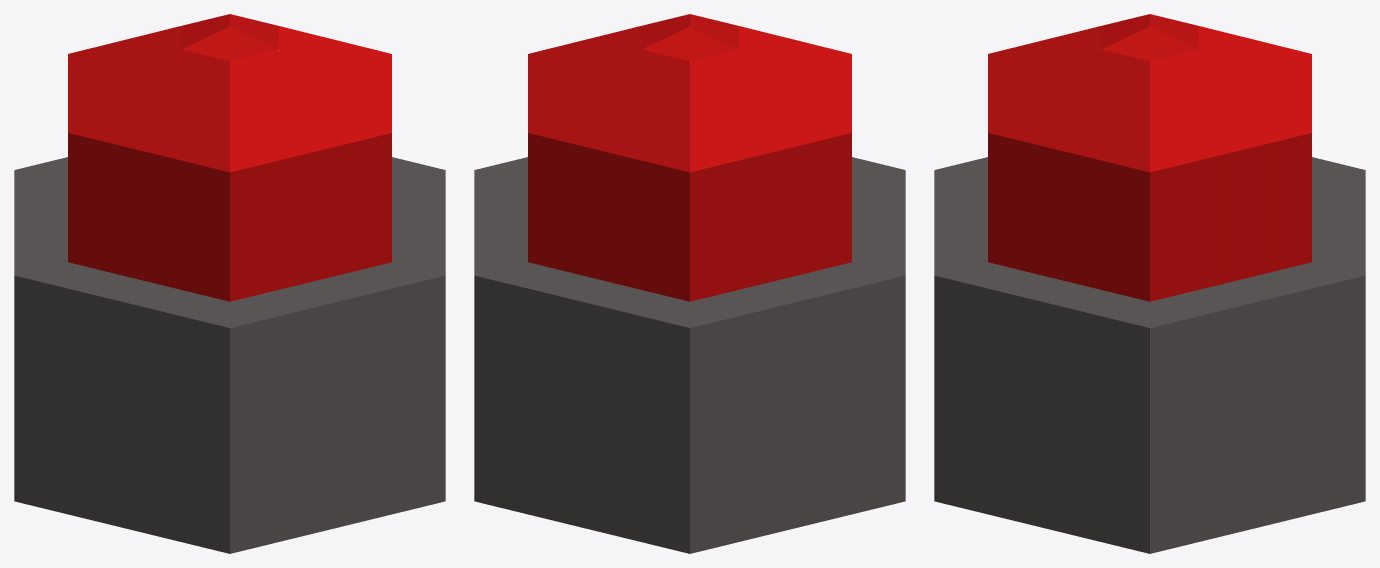
Rendered from Button.fbx.
3 views of the same model, side by side, from view 1: azimuth 30°, elevation 25°; view 2: azimuth 150°, elevation 25°; view 3: azimuth 270°, elevation 25° (orthographic).
Visible parts, largest first — view 1: Button_Base, Button; view 2: Button_Base, Button; view 3: Button_Base, Button.
Boxes of the visible parts, box(x1,y1,x2,y2) form: Button_Base: box(14, 157, 445, 553); Button: box(68, 14, 391, 301); Button_Base: box(474, 157, 905, 553); Button: box(528, 14, 851, 301); Button_Base: box(934, 157, 1365, 553); Button: box(988, 14, 1311, 301).
Bounding box in the file's own units: 4 × 3.74 × 3.46.
Materials: 1 (1 with a texture image).
